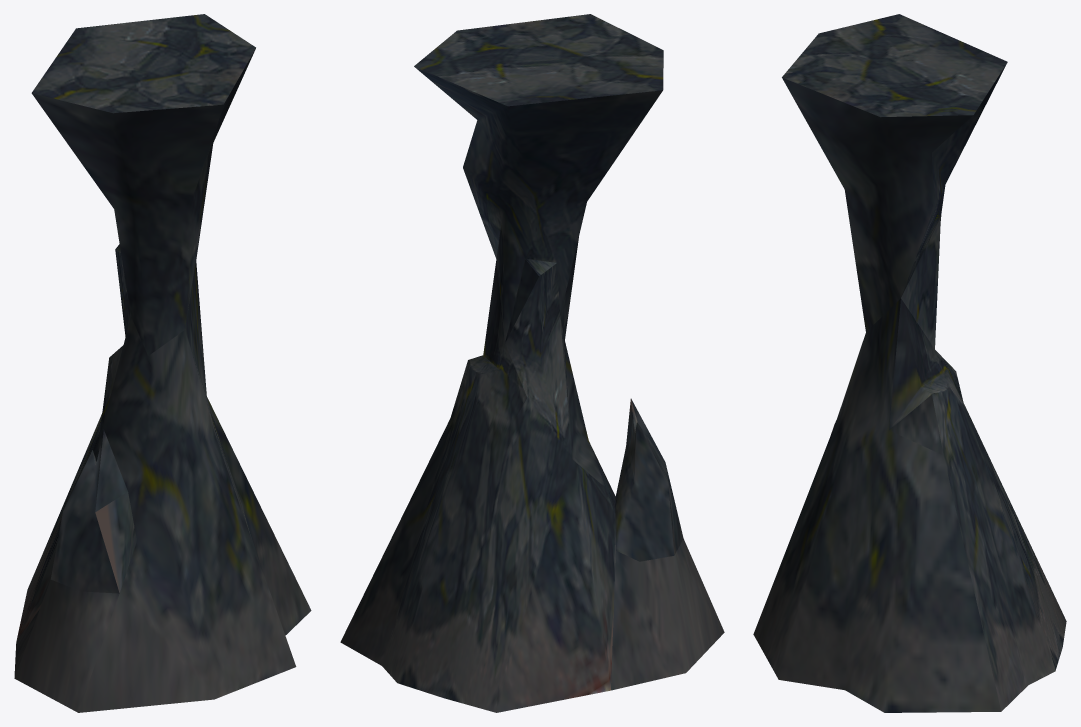
Rendered from tlfb_shizhu1.FBX.
3 renders of one model, left to right at view 1: azimuth 30°, elevation 25°; view 2: azimuth 150°, elevation 25°; view 3: azimuth 270°, elevation 25°, orthographic. The views are drawn at different scales.
Parts seen in each view (by area): view 1: tlfb_shizhu1; view 2: tlfb_shizhu1; view 3: tlfb_shizhu1.
Part boxes in pixels (box(x1,y1,x2,y2)): tlfb_shizhu1: box(14, 14, 311, 712); tlfb_shizhu1: box(340, 14, 724, 712); tlfb_shizhu1: box(753, 14, 1066, 712).
Size of the model in its own units: 455 by 860 by 429.
